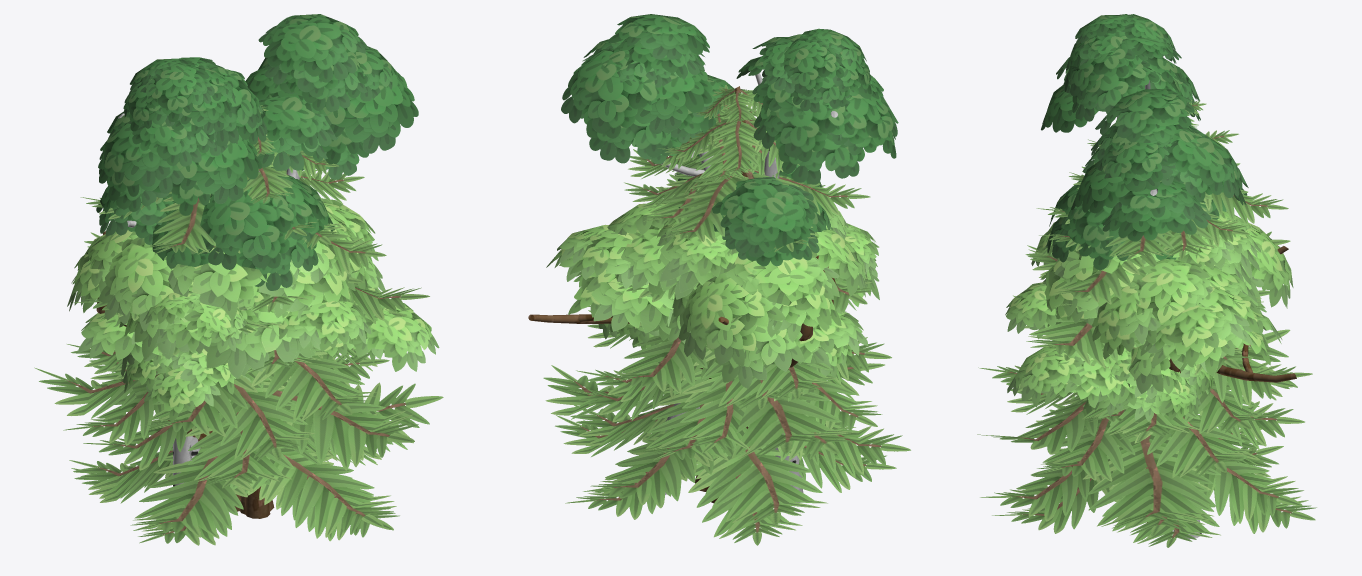
File: meridian-trees.glb
3 renders of one model, left to right at view 1: azimuth 30°, elevation 25°; view 2: azimuth 150°, elevation 25°; view 3: azimuth 270°, elevation 25°, orthographic. The views are drawn at different scales.
Visible parts, largest first — view 1: Pine_1, Birch_5, Pine_3, Tree_7, Birch_2, Tree_4, Tree_3, Tree_1; view 2: Pine_1, Birch_5, Pine_3, Tree_4, Birch_2, Tree_3, Tree_7, Tree_1; view 3: Pine_1, Birch_5, Pine_3, Tree_3, Tree_4, Birch_2, Tree_7, Tree_1.
Boxes of the visible parts, bbox=[...] form: Pine_1: bbox=[34, 134, 443, 538]; Birch_5: bbox=[96, 46, 418, 290]; Pine_3: bbox=[63, 105, 418, 545]; Tree_7: bbox=[119, 235, 381, 514]; Birch_2: bbox=[152, 14, 367, 486]; Tree_4: bbox=[67, 198, 385, 362]; Tree_3: bbox=[77, 211, 439, 511]; Tree_1: bbox=[165, 275, 355, 511]; Pine_1: bbox=[543, 105, 910, 525]; Birch_5: bbox=[561, 28, 898, 494]; Pine_3: bbox=[555, 85, 896, 545]; Tree_4: bbox=[528, 223, 879, 503]; Birch_2: bbox=[603, 14, 851, 502]; Tree_3: bbox=[607, 202, 868, 487]; Tree_7: bbox=[598, 210, 879, 383]; Tree_1: bbox=[645, 253, 708, 491]; Pine_1: bbox=[978, 172, 1304, 536]; Birch_5: bbox=[1041, 14, 1248, 539]; Pine_3: bbox=[977, 100, 1316, 547]; Tree_3: bbox=[1007, 211, 1288, 407]; Tree_4: bbox=[1005, 217, 1296, 393]; Birch_2: bbox=[1063, 37, 1212, 211]; Tree_7: bbox=[1040, 222, 1259, 421]; Tree_1: bbox=[1047, 257, 1251, 522].
Size of the model in its own units: 7.73 by 9.08 by 7.29.
5 materials, 5 textured.
